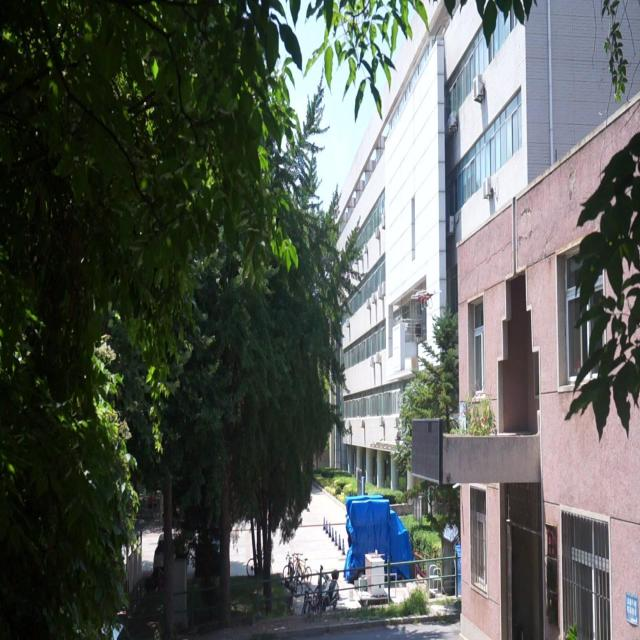UAV: (410, 289, 443, 311)
